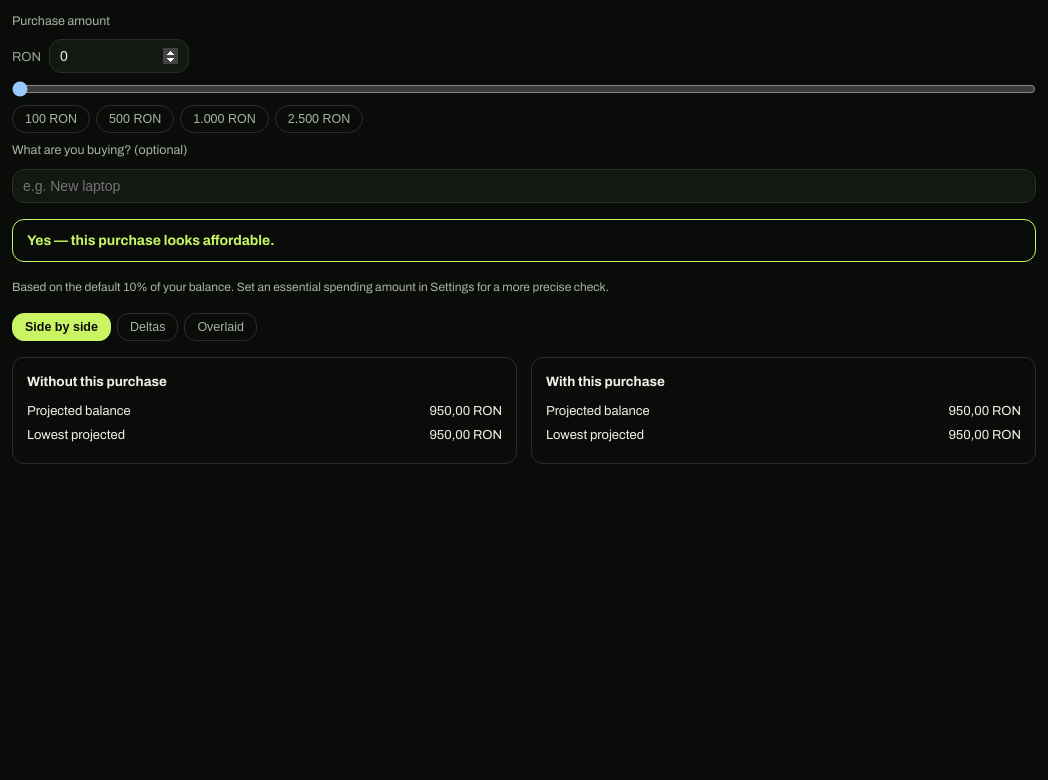
Scenario: SimulatorPanel › switches to the overlaid view and renders the chart
Click the button "Overlaid".
click(221, 327)  # box [184,313,257,341]
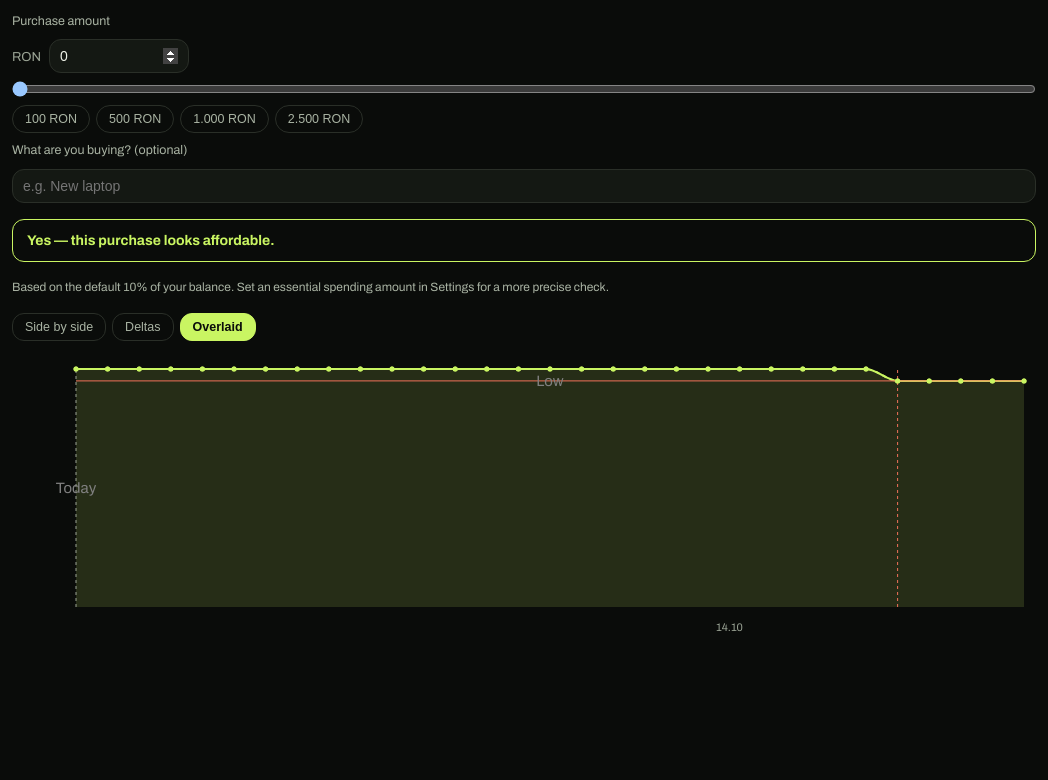
Now the icon "14.10 Today Low" is shown, box [12,357,1036,637]
